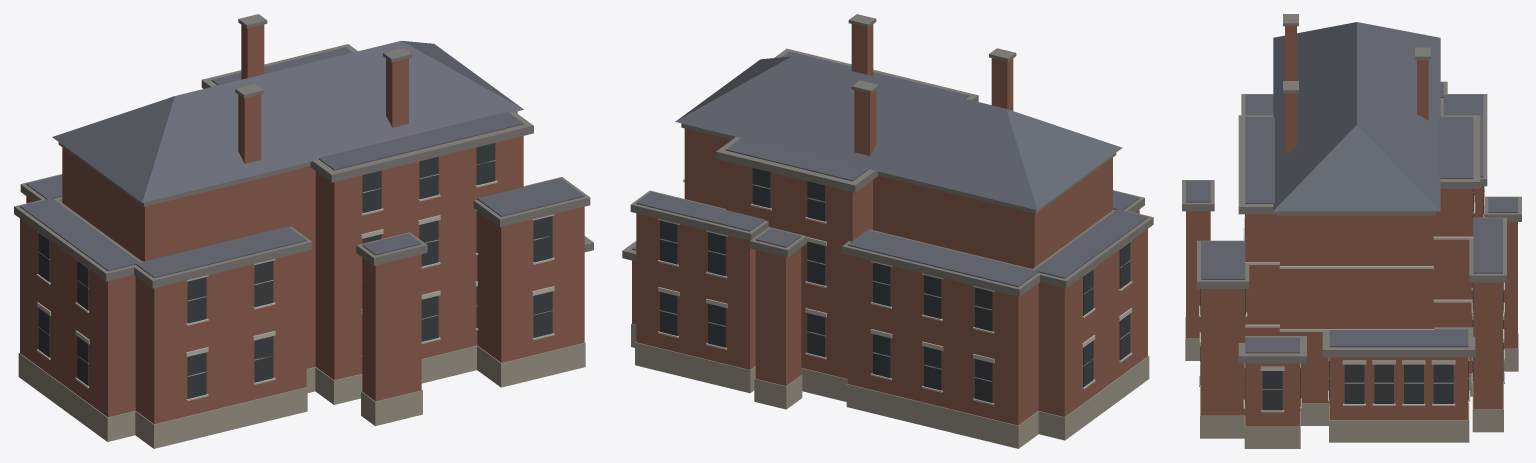
File: buckingham_house_2036_prairie__draft_1904.glb
3 views of the same model, side by side, from view 1: azimuth 30°, elevation 25°; view 2: azimuth 150°, elevation 25°; view 3: azimuth 270°, elevation 25° (orthographic). The views are drawn at different scales.
Visible parts, largest first — view 1: buckingham_house_2036_prairie__draft_1904; view 2: buckingham_house_2036_prairie__draft_1904; view 3: buckingham_house_2036_prairie__draft_1904.
Boxes of the visible parts, x1=… form: buckingham_house_2036_prairie__draft_1904: x1=14, y1=14, x2=593, y2=448; buckingham_house_2036_prairie__draft_1904: x1=622, y1=14, x2=1153, y2=448; buckingham_house_2036_prairie__draft_1904: x1=1182, y1=14, x2=1521, y2=448.
Size of the model in its own units: 25.3 by 16.13 by 17.15.
